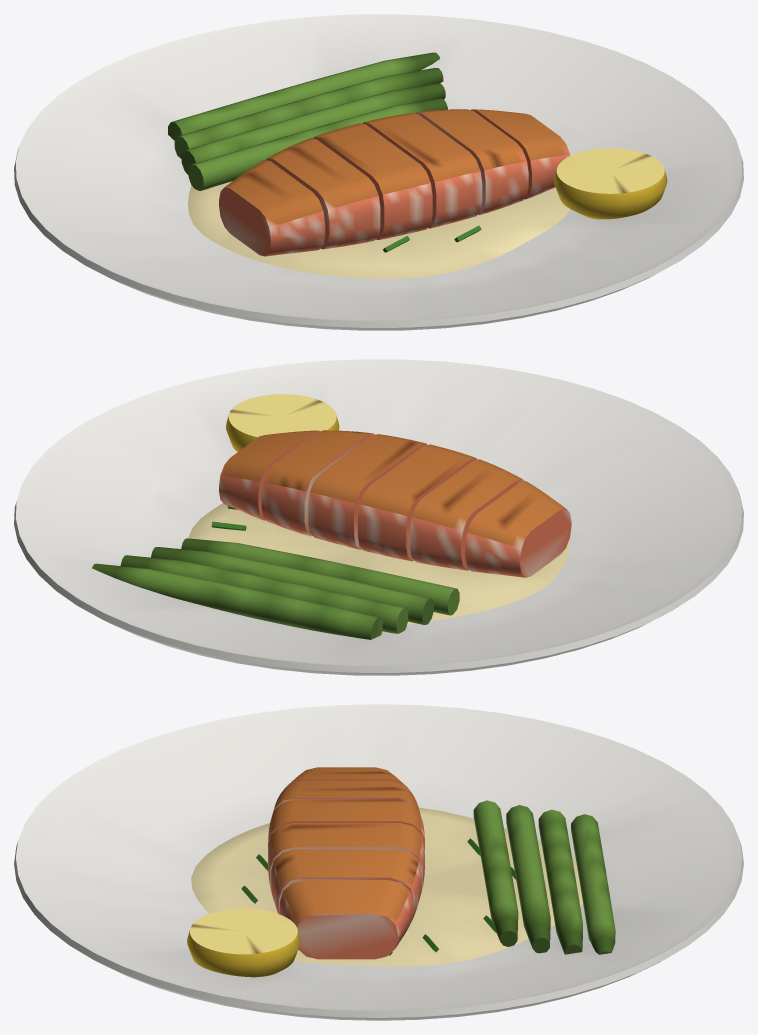
File: dish-salmon-lod0.glb
3 renders of one model, top to bottom at view 1: azimuth 30°, elevation 25°; view 2: azimuth 150°, elevation 25°; view 3: azimuth 270°, elevation 25°, orthographic.
Parts seen in each view (by area): view 1: salmon.lod0__table porcelain, salmon.lod0__food, salmon.lod0__food glaze; view 2: salmon.lod0__table porcelain, salmon.lod0__food, salmon.lod0__food glaze; view 3: salmon.lod0__table porcelain, salmon.lod0__food, salmon.lod0__food glaze.
Boxes of the visible parts, box(x1,y1,x2,y2) form: salmon.lod0__table porcelain: box(14, 14, 743, 330); salmon.lod0__food: box(168, 52, 570, 256); salmon.lod0__food glaze: box(188, 148, 667, 278); salmon.lod0__table porcelain: box(14, 359, 743, 675); salmon.lod0__food: box(92, 430, 571, 639); salmon.lod0__food glaze: box(188, 394, 569, 624); salmon.lod0__table porcelain: box(14, 704, 743, 1020); salmon.lod0__food: box(241, 767, 615, 959); salmon.lod0__food glaze: box(187, 807, 582, 977).
Size of the model in its own units: 0.27 by 0.038 by 0.27.
